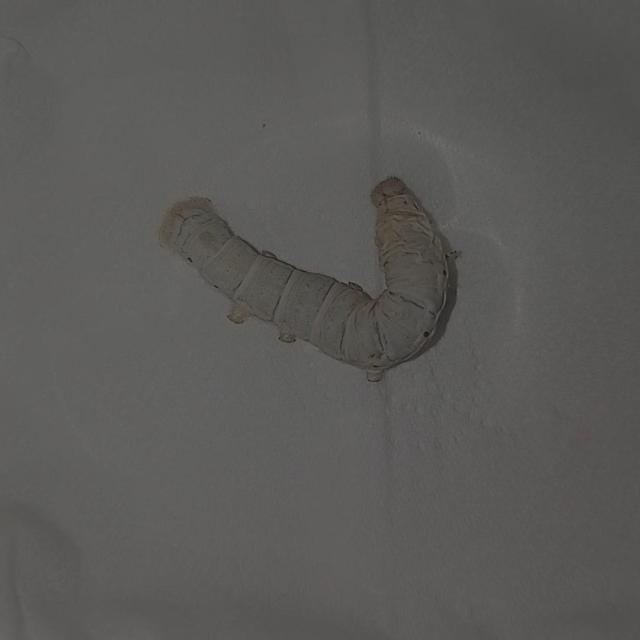Healthy: (123, 144, 480, 398)
